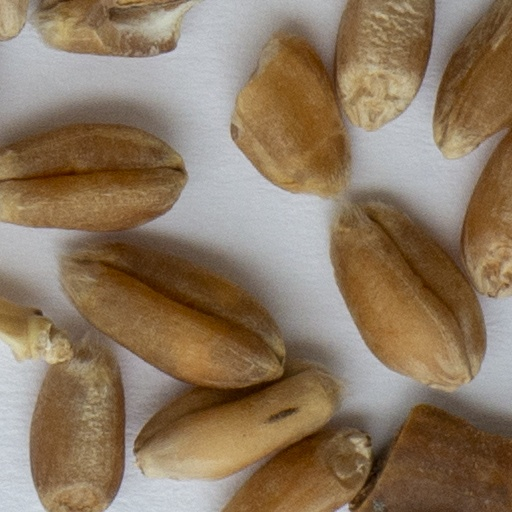Peel-poly: (348, 404, 511, 511), (0, 290, 78, 369)
Wheat-grain-damaged-poly: (229, 26, 353, 206), (31, 0, 219, 59)
